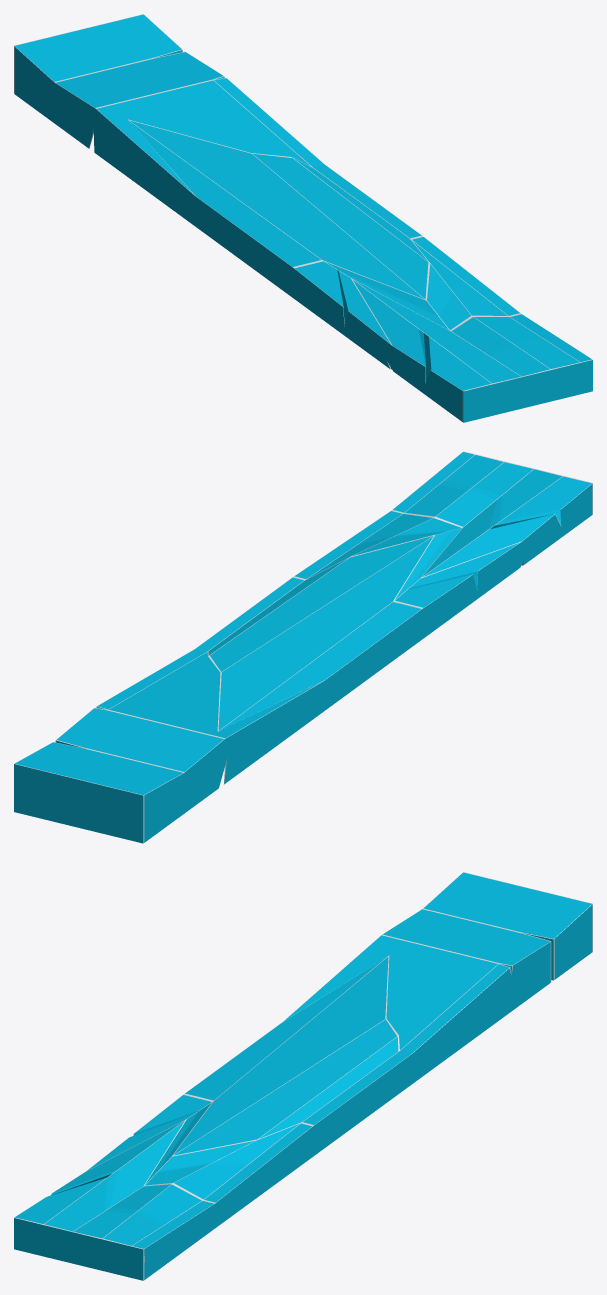
Rendered from Stair Slab.fbx.
The picture shows the model from 3 angles, top to bottom: view 1: azimuth 30°, elevation 25°; view 2: azimuth 150°, elevation 25°; view 3: azimuth 330°, elevation 25°; orthographic projection.
Visible parts, largest first — view 1: Cube.001; view 2: Cube.001; view 3: Cube.001.
Boxes of the visible parts, x1=… form: Cube.001: x1=14, y1=14, x2=592, y2=422; Cube.001: x1=14, y1=451, x2=592, y2=843; Cube.001: x1=14, y1=872, x2=592, y2=1280.
Size of the model in its own units: 68.28 by 23.41 by 397.
